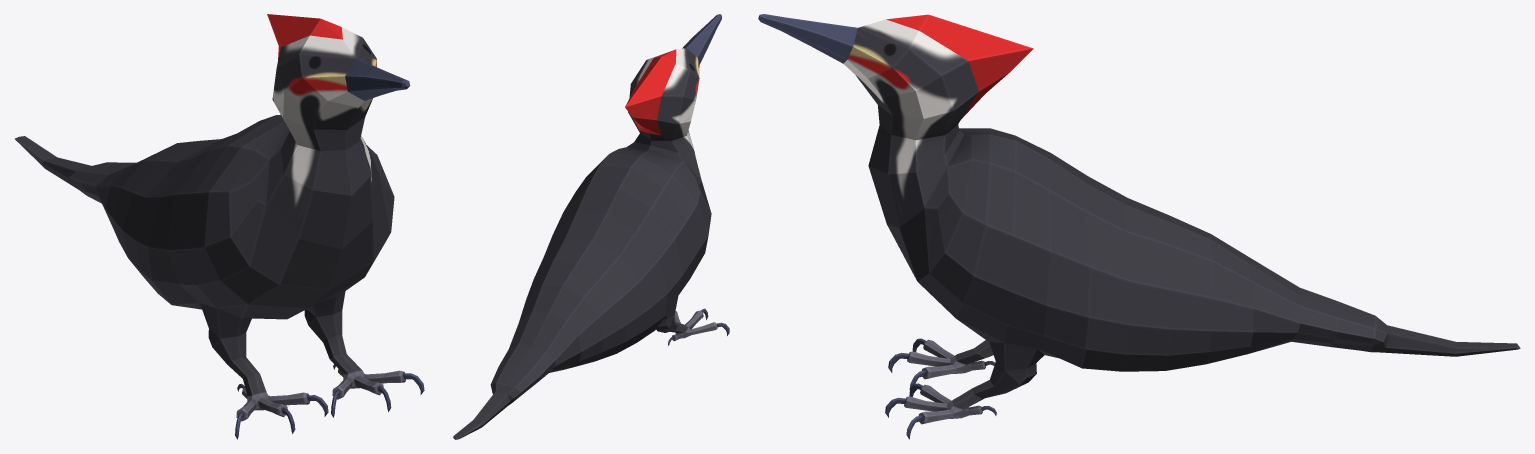
The model's file is woodpecker.glb.
3 renders of one model, left to right at view 1: azimuth 30°, elevation 25°; view 2: azimuth 150°, elevation 25°; view 3: azimuth 270°, elevation 25°, orthographic. The views are drawn at different scales.
Parts seen in each view (by area): view 1: Woodpecker_mesh; view 2: Woodpecker_mesh; view 3: Woodpecker_mesh.
Part boxes in pixels (x1,y1,x2,y2): Woodpecker_mesh: (15,14,424,439); Woodpecker_mesh: (453,14,729,439); Woodpecker_mesh: (758,14,1520,439).
Bounding box in the file's own units: 3.9 × 7.92 × 14.19.
Materials: 1 (1 with a texture image).
